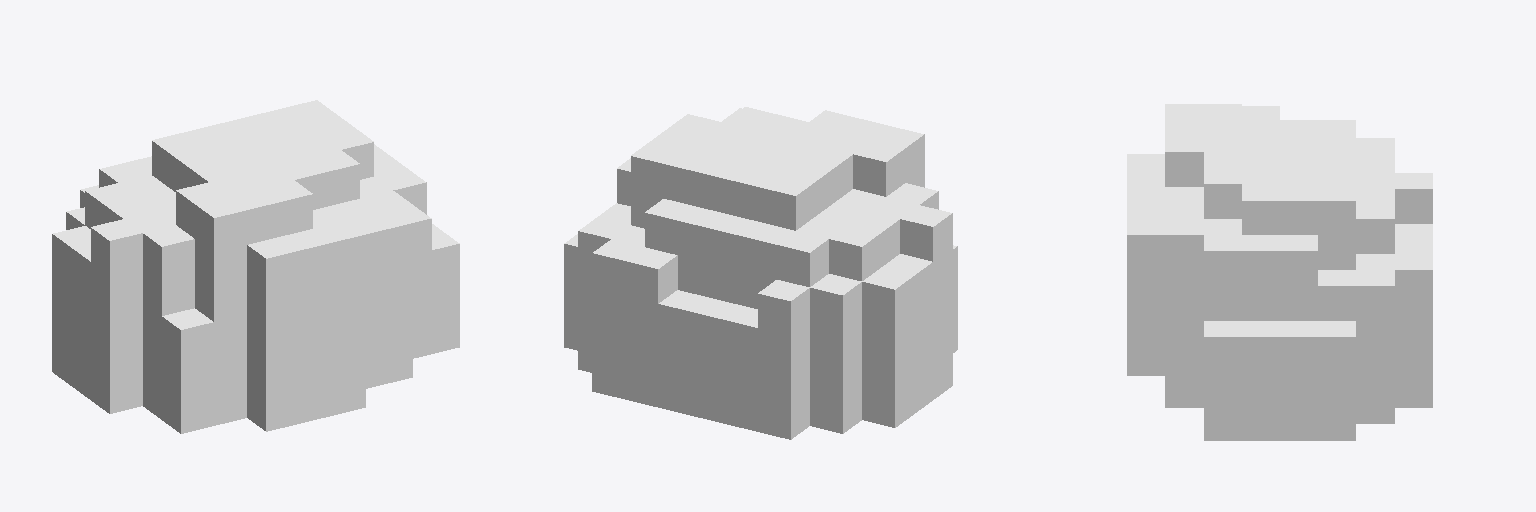
The model's file is Stones-5.obj.
3 renders of one model, left to right at view 1: azimuth 30°, elevation 25°; view 2: azimuth 150°, elevation 25°; view 3: azimuth 270°, elevation 25°, orthographic.
Visible parts, largest first — view 1: object 1; view 2: object 1; view 3: object 1.
Boxes of the visible parts, x1,y1,x2,y2 form: object 1: [52, 100, 459, 433]; object 1: [564, 107, 957, 439]; object 1: [1127, 104, 1432, 440].
Size of the model in its own units: 1 by 0.6 by 0.8.